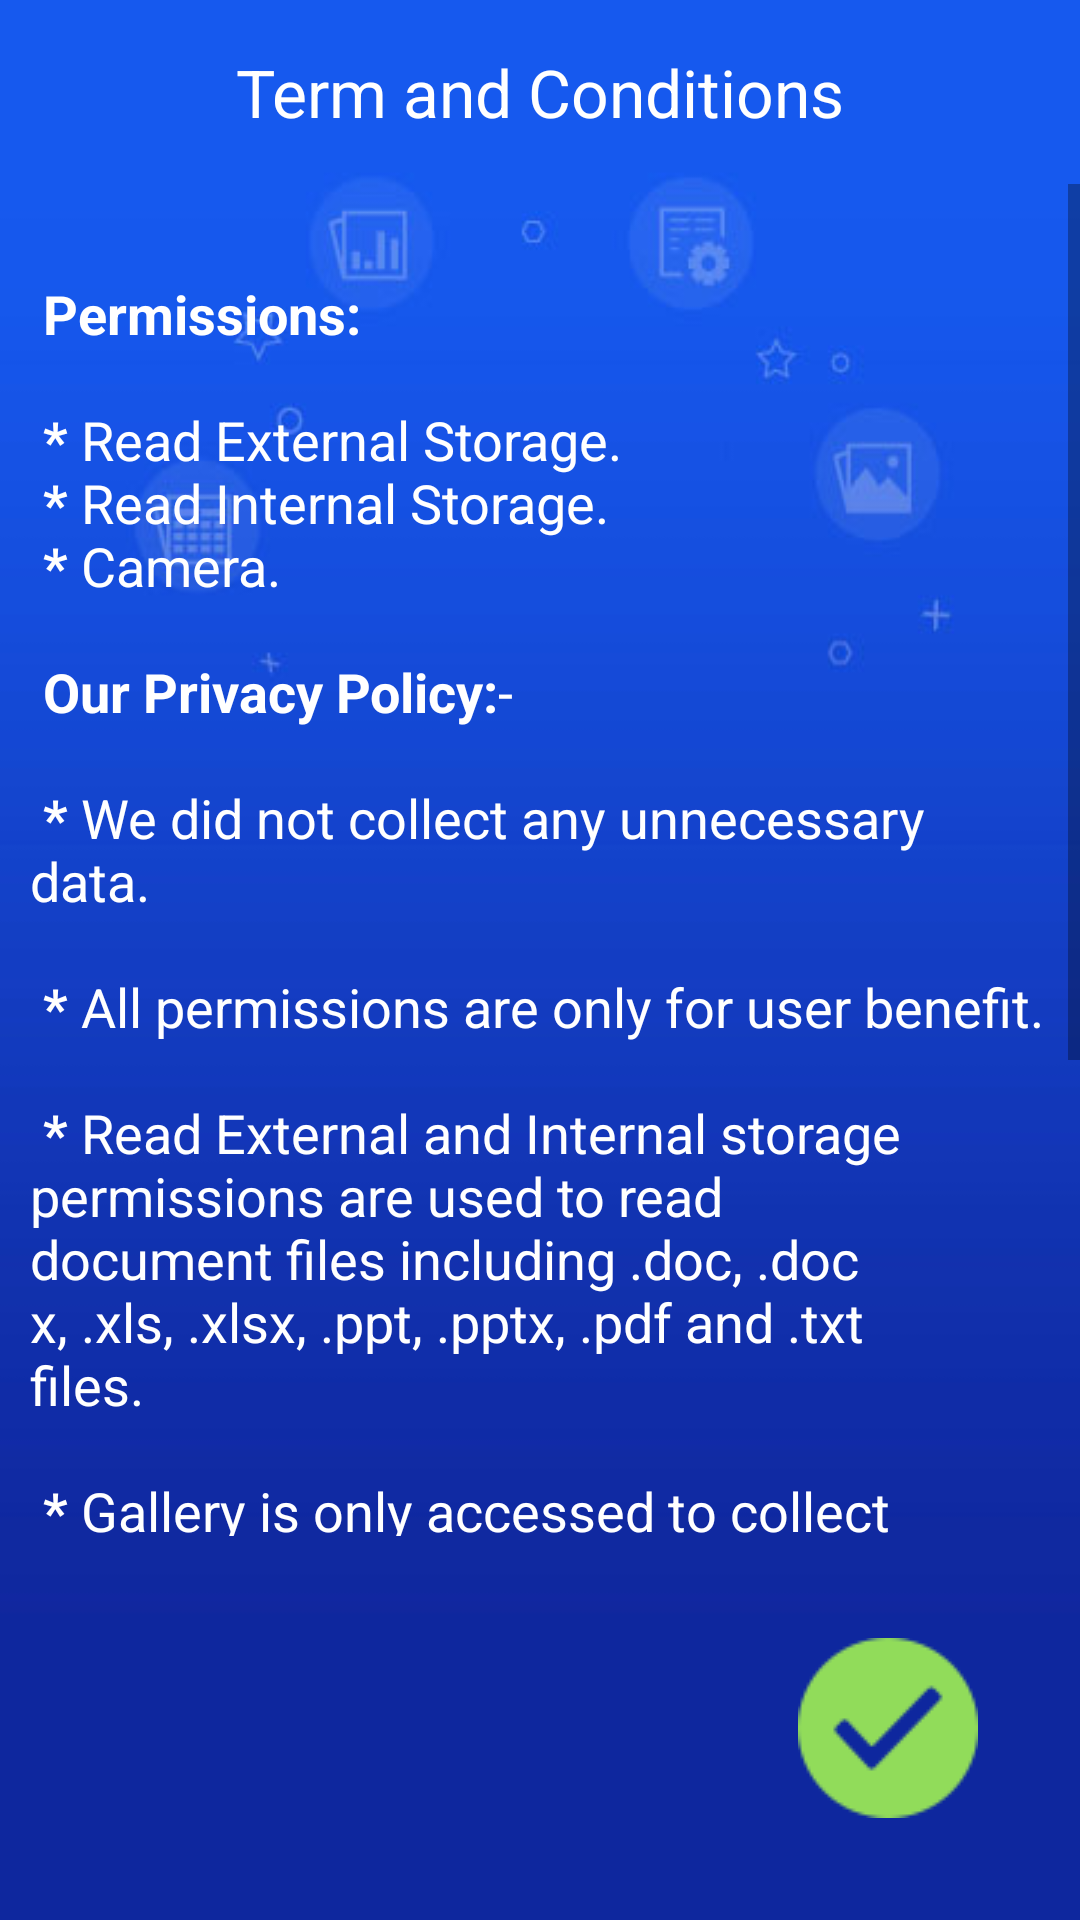

Where icons sit on this 1080*1920 app screen, as bbox=[x1, y1, x2, y2]:
accept: bbox=[798, 1638, 978, 1818]
